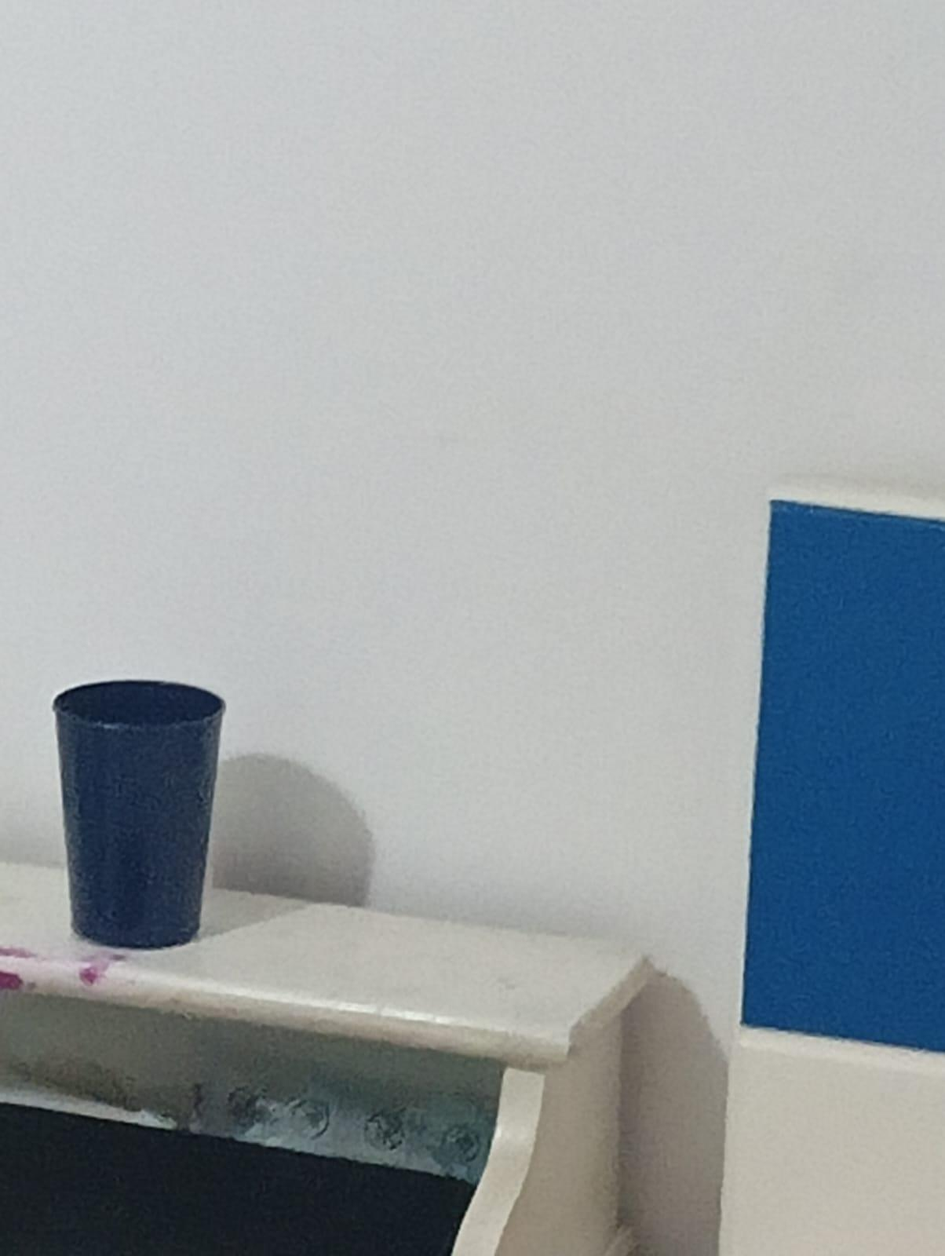cup: (53, 680, 224, 948), (53, 674, 232, 736)
